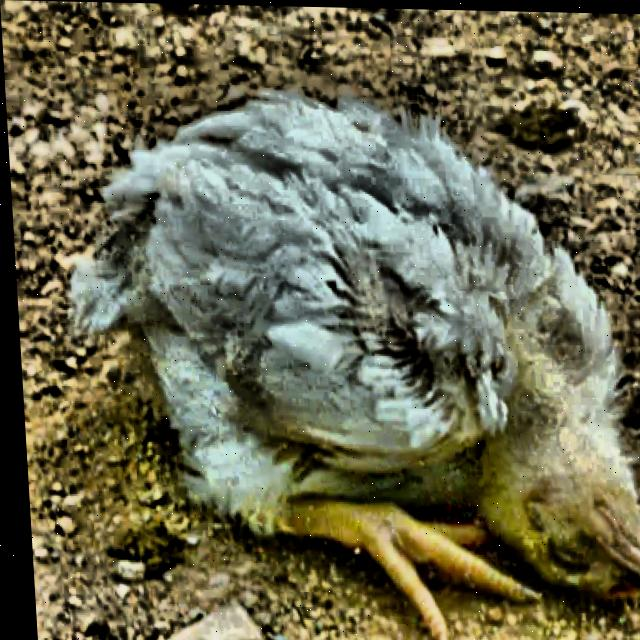Newcastle: (50, 94, 640, 640)
